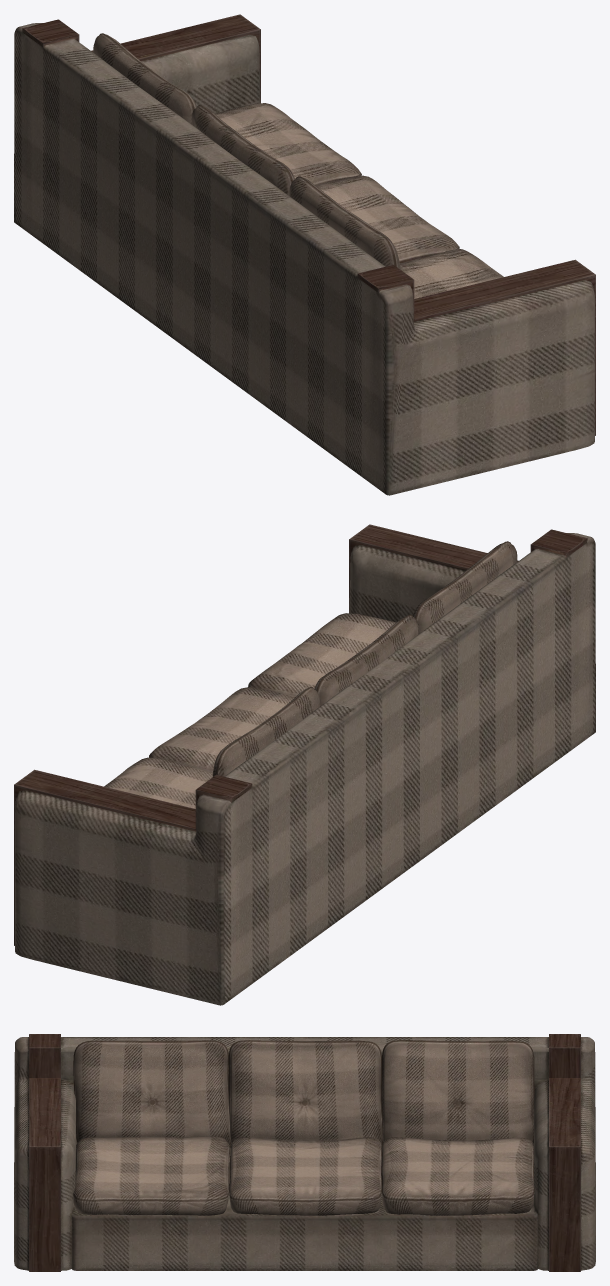
Rendered from sofa_plaid.glb.
3 renders of one model, top to bottom at view 1: azimuth 30°, elevation 25°; view 2: azimuth 150°, elevation 25°; view 3: azimuth 270°, elevation 25°, orthographic. The views are drawn at different scales.
Parts seen in each view (by area): view 1: sofabase_low2_sofabase_0, cushions_low4_cushions_0; view 2: sofabase_low2_sofabase_0, cushions_low4_cushions_0; view 3: cushions_low4_cushions_0, sofabase_low2_sofabase_0.
Boxes of the visible parts, left/top/right/bottom form: sofabase_low2_sofabase_0: left=14, top=14, right=595, bottom=495; cushions_low4_cushions_0: left=93, top=33, right=503, bottom=298; sofabase_low2_sofabase_0: left=14, top=524, right=595, bottom=1005; cushions_low4_cushions_0: left=104, top=541, right=517, bottom=808; cushions_low4_cushions_0: left=73, top=1040, right=534, bottom=1215; sofabase_low2_sofabase_0: left=14, top=1034, right=595, bottom=1271.
Bounding box in the file's own units: 0.0525 × 0.0489 × 0.1558.
Materials: 2 (2 with a texture image).
